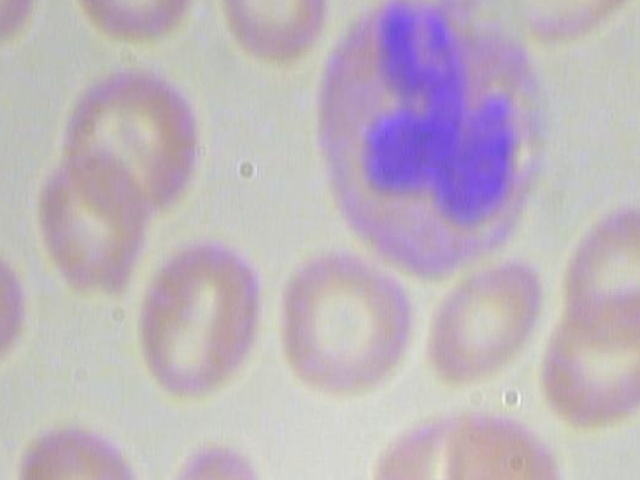RBC: (58, 61, 213, 232), (125, 231, 274, 405), (272, 252, 413, 410), (35, 140, 155, 295), (420, 253, 548, 394), (534, 289, 640, 434), (548, 194, 640, 359), (368, 396, 515, 480), (431, 400, 576, 480), (16, 406, 143, 480), (217, 0, 336, 71), (497, 0, 640, 55), (147, 437, 292, 480)
WBC: (306, 0, 562, 280)
